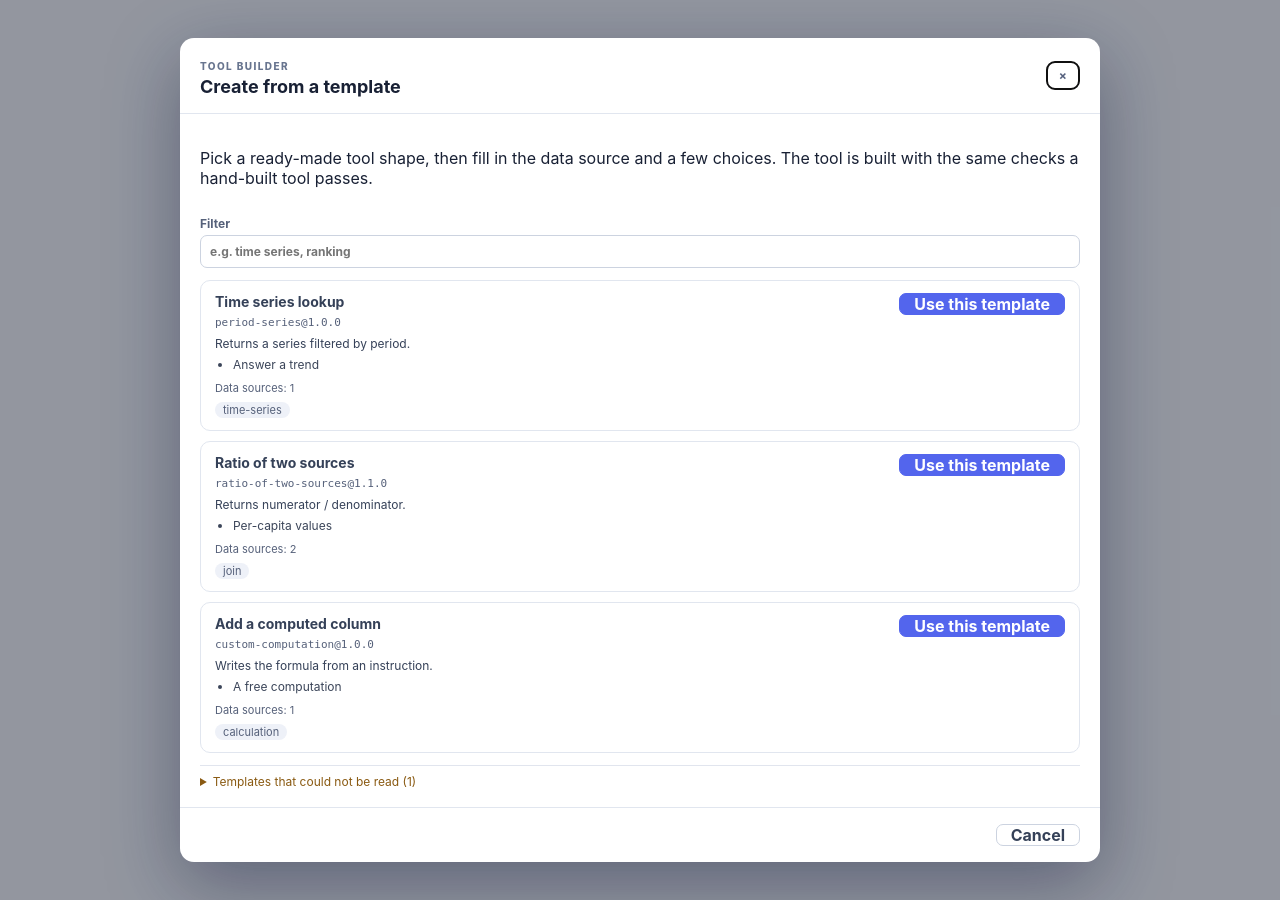
Scenario: TemplateDialog: テンプレート一覧 › 正常: 絞り込みはタイトル・要約・タグ・id のどれかに当たったものだけ残す
The width and height of the screenshot is (1280, 900).
Expected: the text "Time series lookup" is shown, [215, 293, 344, 310]
In the field named "Filter templates": (640, 252) [200, 235, 1080, 268], type "join"
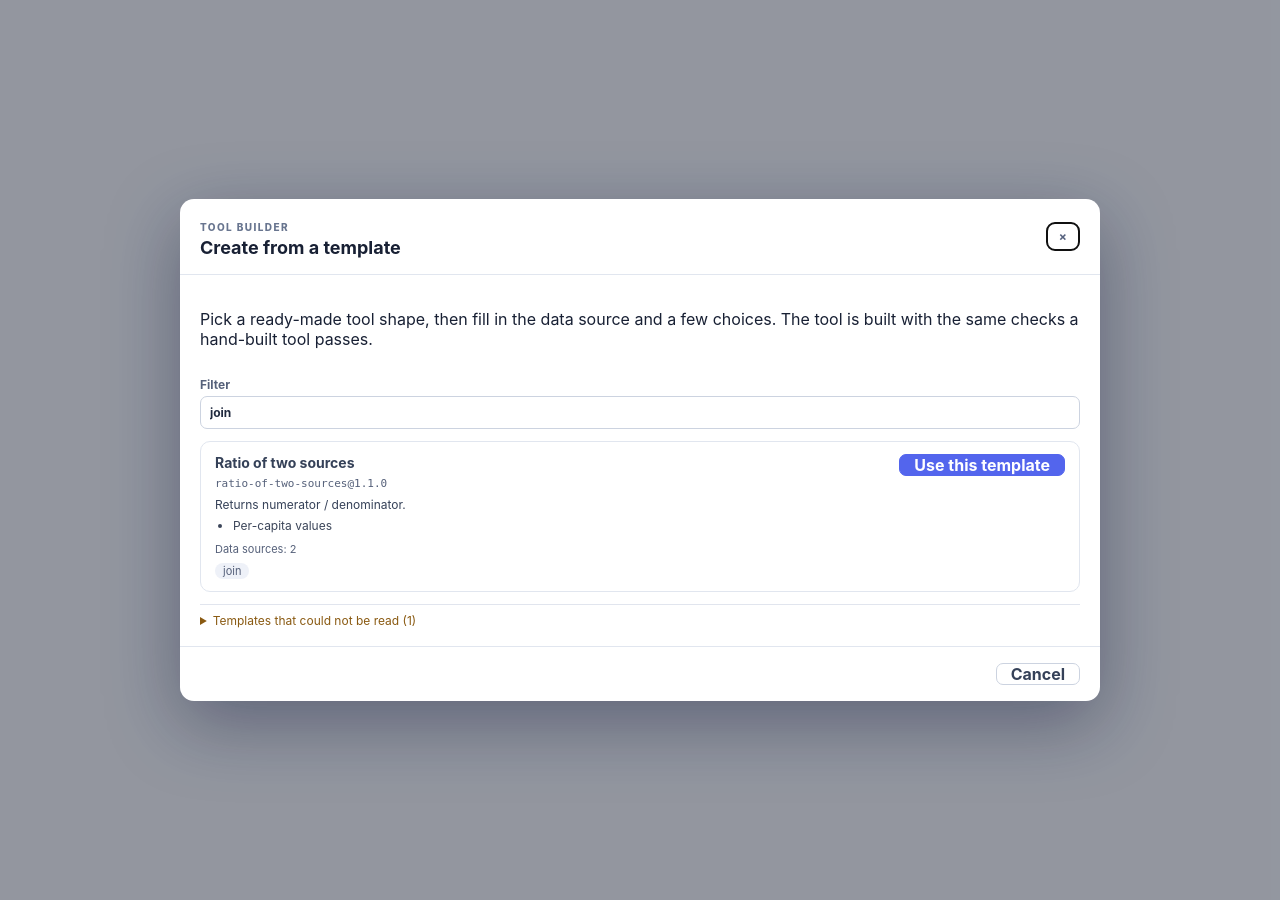
Expected: the text "Ratio of two sources" is shown, [215, 454, 354, 471]
Expected: the text "Time series lookup" is gone
